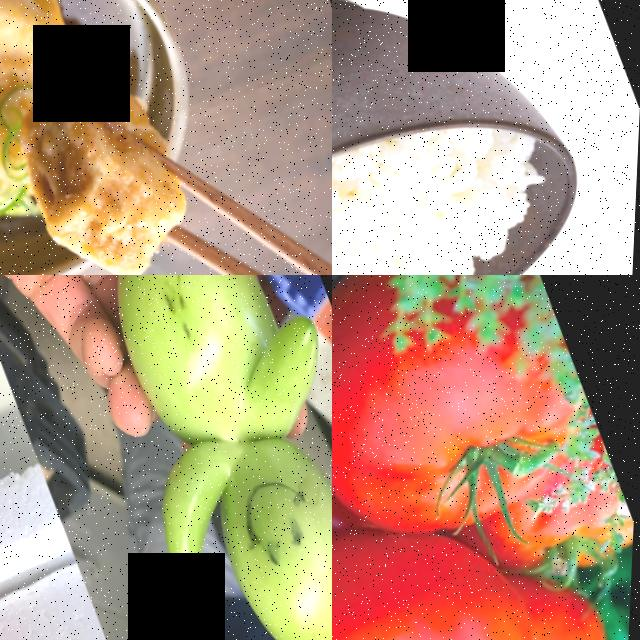tofu: (0, 56, 209, 275), (0, 0, 85, 117)
tomato: (332, 471, 591, 640)
white rice: (332, 84, 586, 275)
